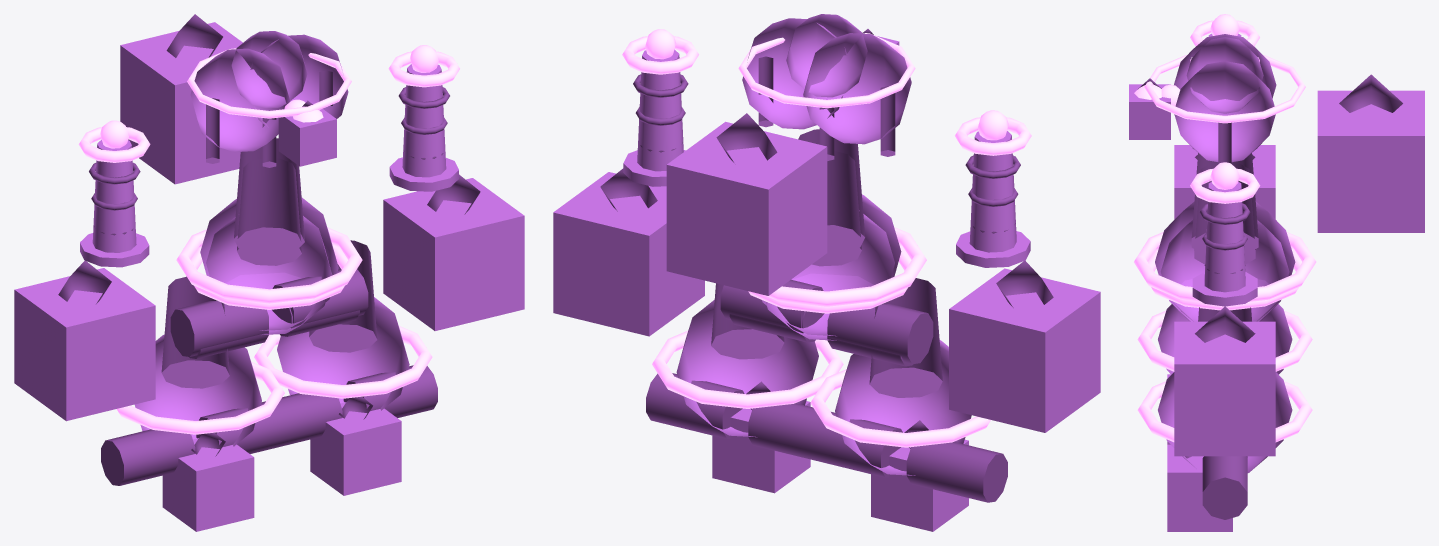
Rendered from golem_131.glb.
3 renders of one model, left to right at view 1: azimuth 30°, elevation 25°; view 2: azimuth 150°, elevation 25°; view 3: azimuth 270°, elevation 25°, orthographic. The views are drawn at different scales.
Parts seen in each view (by area): view 1: Body, Detail, Glow; view 2: Body, Detail, Glow; view 3: Body, Glow, Detail.
Boxes of the visible parts, x1=… form: Body: x1=14, y1=22, x2=524, y2=531; Detail: x1=58, y1=14, x2=480, y2=485; Glow: x1=78, y1=45, x2=459, y2=434; Body: x1=553, y1=14, x2=1100, y2=531; Detail: x1=600, y1=29, x2=1053, y2=502; Glow: x1=622, y1=29, x2=1031, y2=447; Body: x1=1129, y1=33, x2=1424, y2=531; Glow: x1=1134, y1=14, x2=1316, y2=442; Detail: x1=1137, y1=74, x2=1402, y2=519.
Size of the model in its own units: 1.49 by 1.4 by 0.8503.
